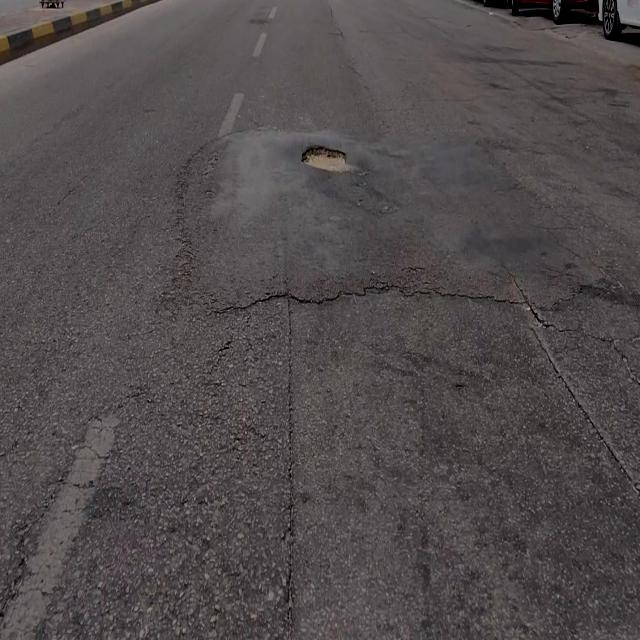Potholes: (303, 143, 349, 174)
